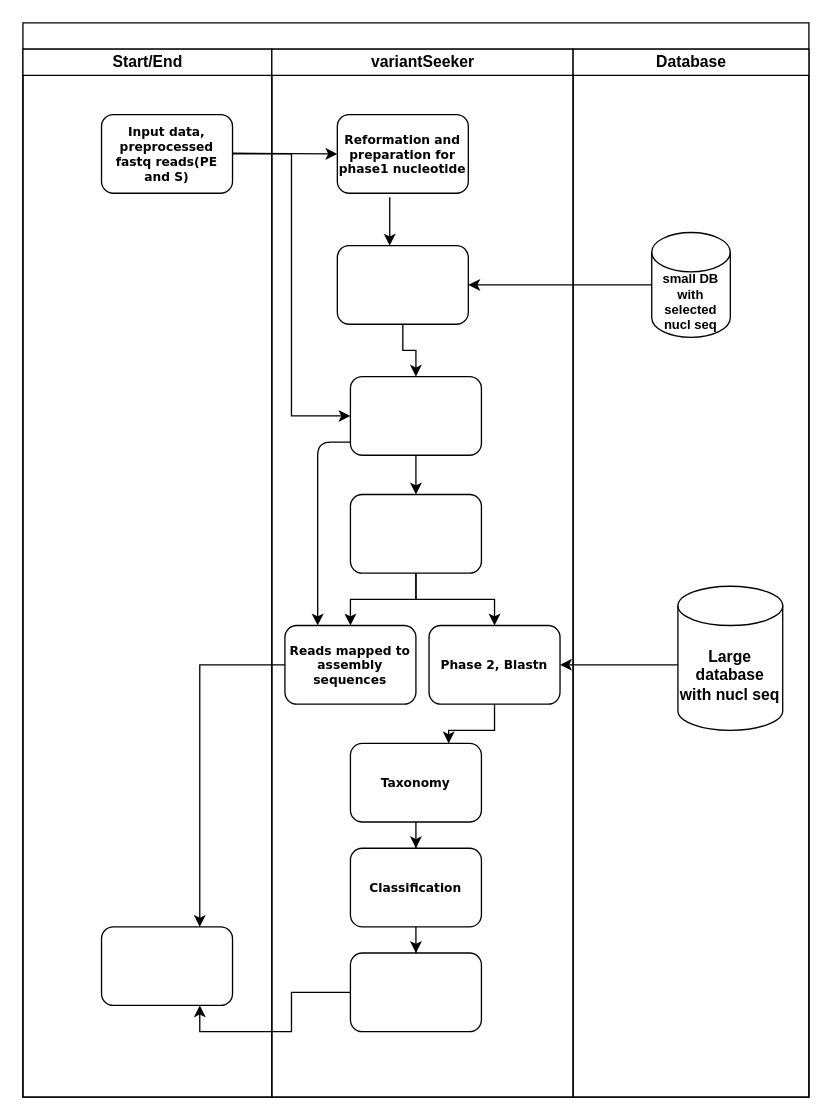
Image size: 832x1120. Some labels were removed from this diagram. Each missing label, with the centre of its shape:
"Data presentation" belongs at point 415,992.
"Extracting sequences based on results" belongs at point 415,415.
"Final results" belongs at point 166,965.
"metagenomic assembler" belongs at point 415,533.
"Phase 1, Blastn" belongs at point 402,284.
